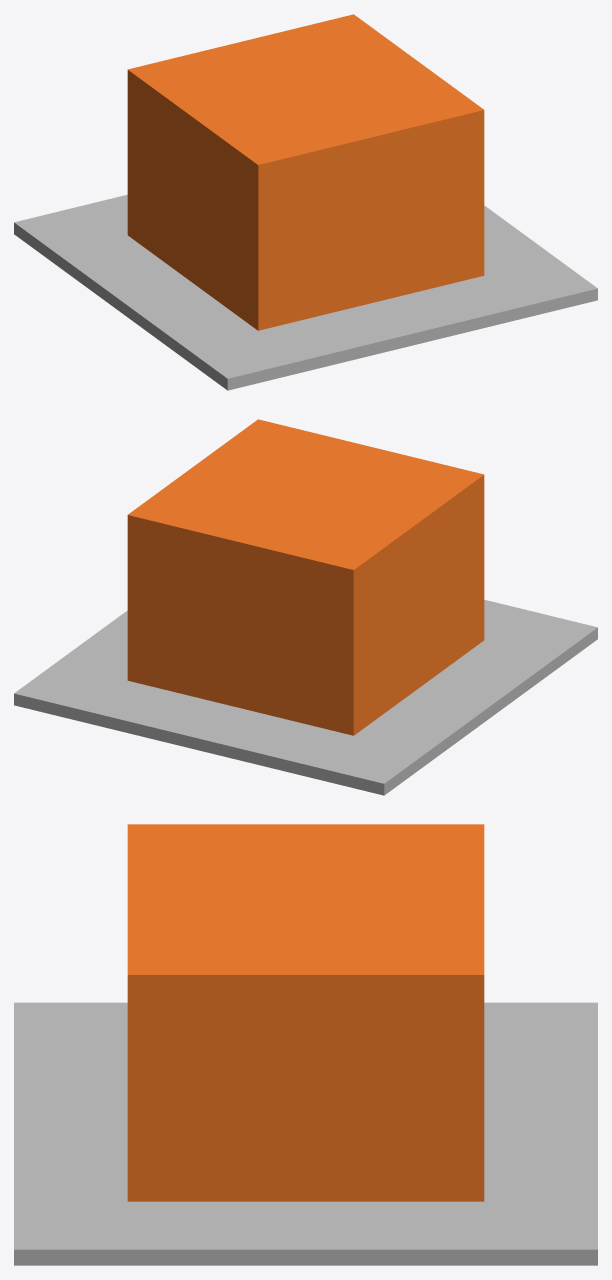
Rendered from Spice.fbx.
The picture shows the model from 3 angles, top to bottom: view 1: azimuth 30°, elevation 25°; view 2: azimuth 150°, elevation 25°; view 3: azimuth 270°, elevation 25°; orthographic projection. The views are drawn at different scales.
Visible parts, largest first — view 1: Cube; view 2: Cube; view 3: Cube.
Part boxes in pixels (x1=…): Cube: x1=14, y1=14, x2=597, y2=390; Cube: x1=14, y1=419, x2=597, y2=795; Cube: x1=14, y1=824, x2=597, y2=1265.
Bounding box in the file's own units: 327 × 150 × 327.
